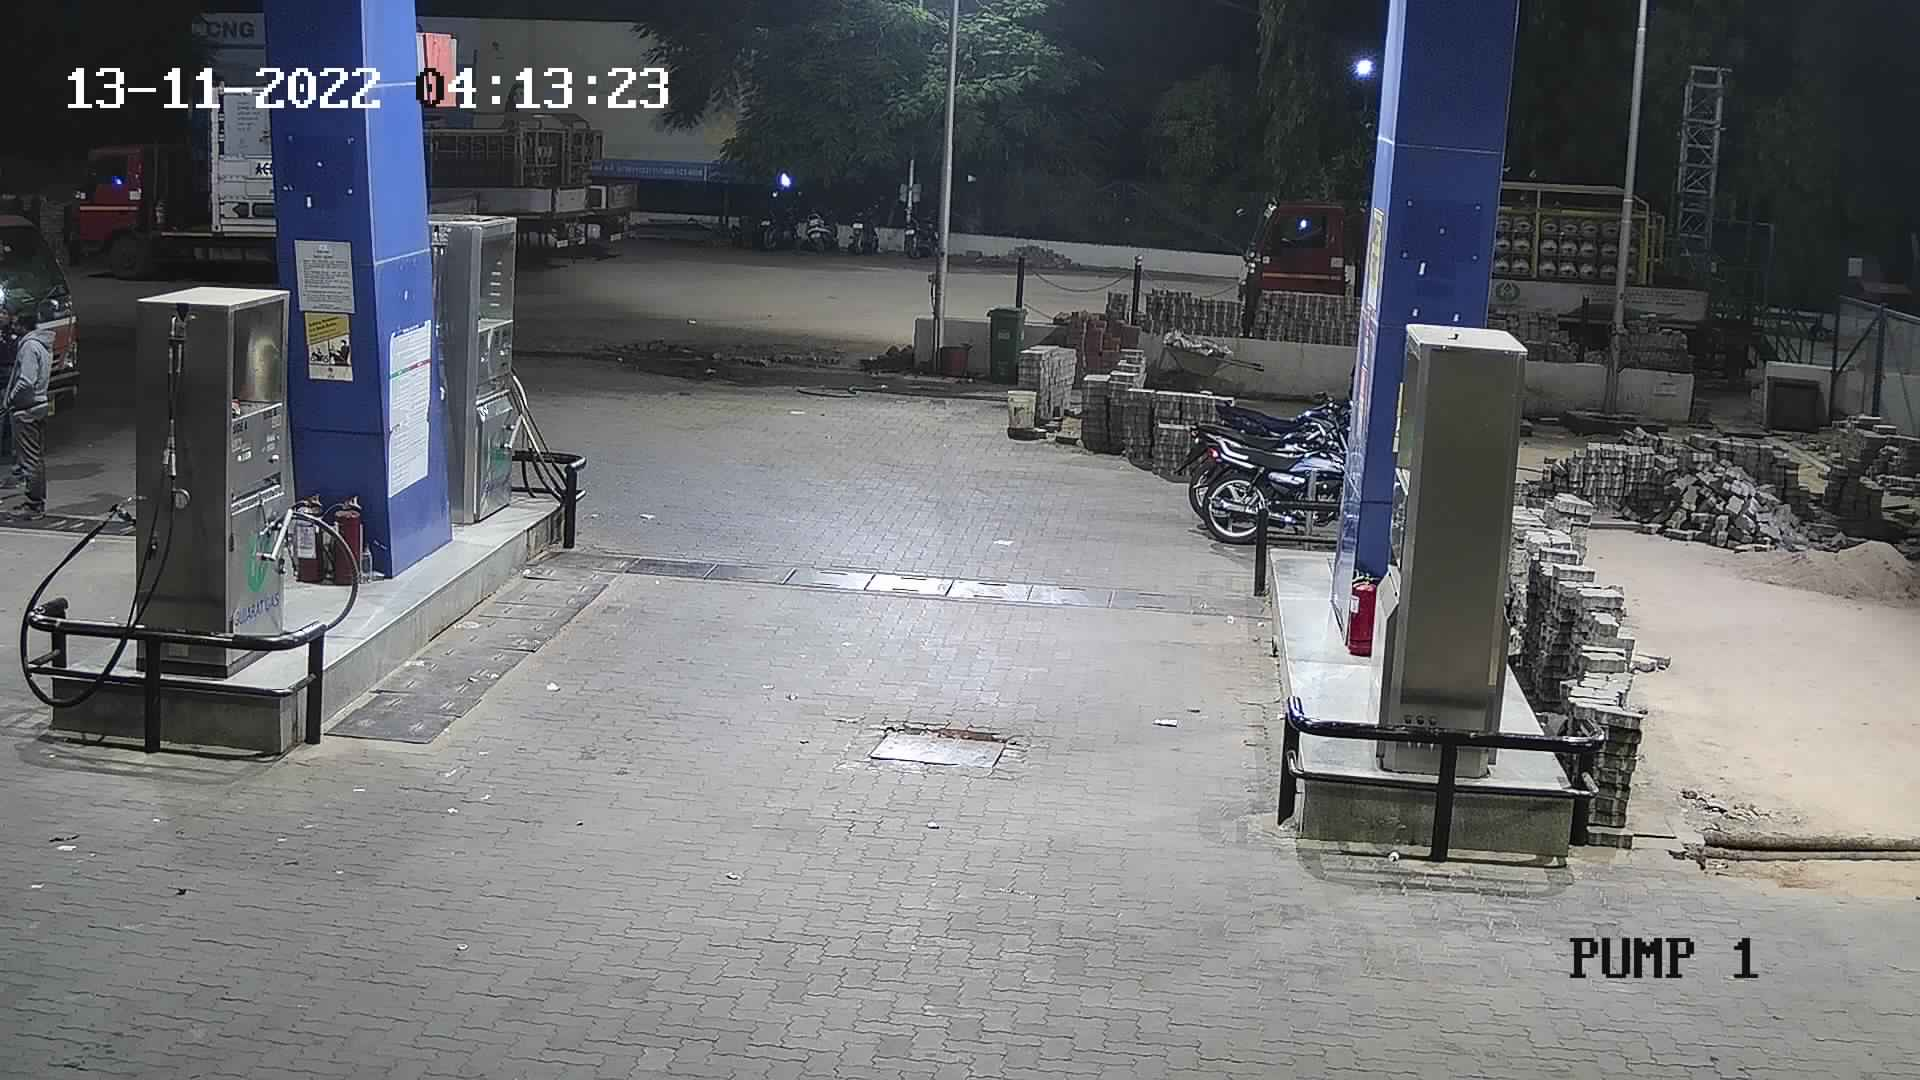Bike: (1176, 389, 1357, 563), (735, 182, 808, 257), (891, 191, 947, 266), (841, 191, 889, 260), (799, 187, 847, 253)
HMV: (404, 73, 647, 266), (61, 80, 280, 285), (1, 158, 91, 469), (1220, 177, 1371, 342)
Others: (3, 295, 61, 526)
